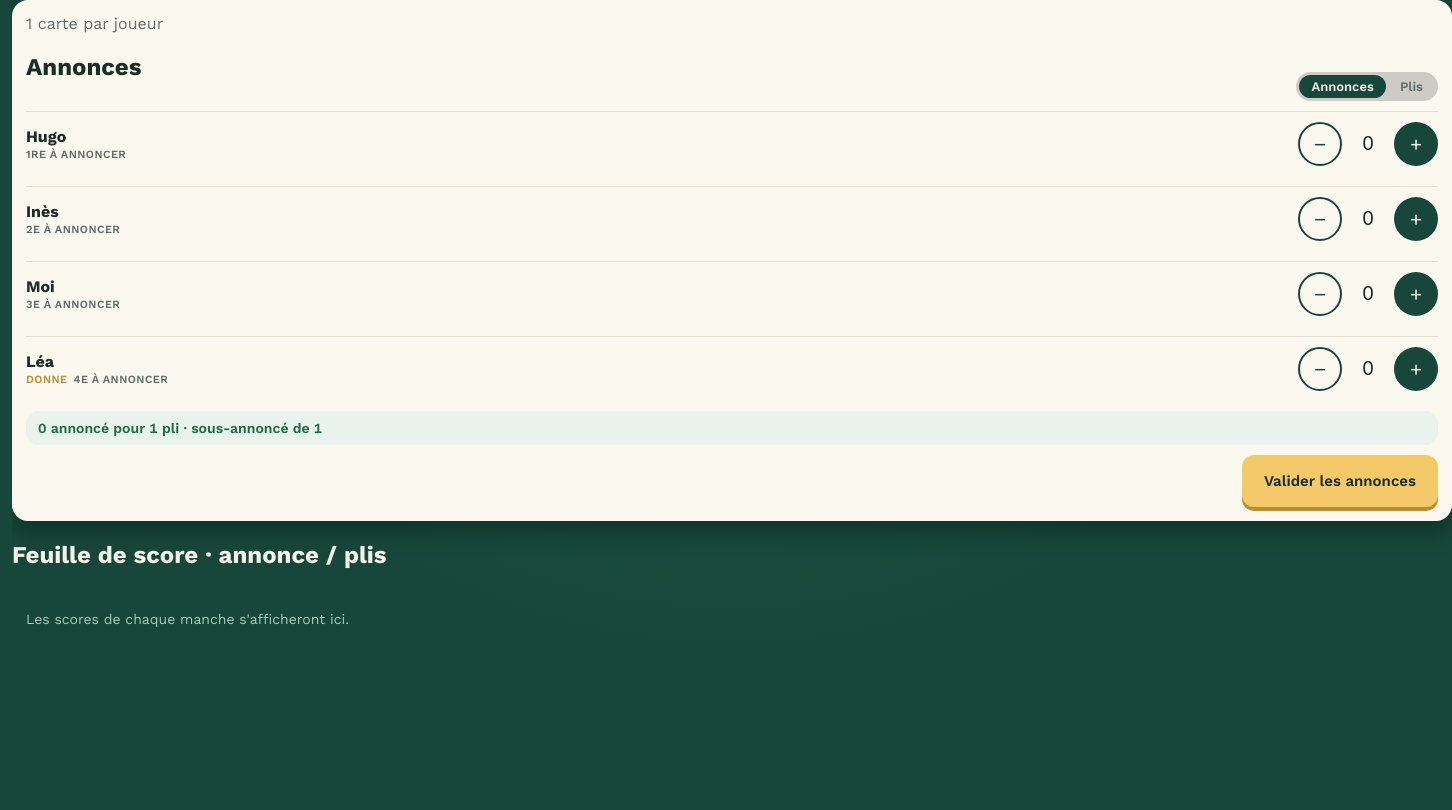
Test: FeuilleWizard › refuse de valider les annonces avec la variante si le total égale le nombre de plis
Note: manche 1 : 1 pli à prendre, une seule annonce à 1 égale ce total
Click the button named "Plus" at x=1416, y=144, box x1=1394 y1=122 x2=1438 y2=166
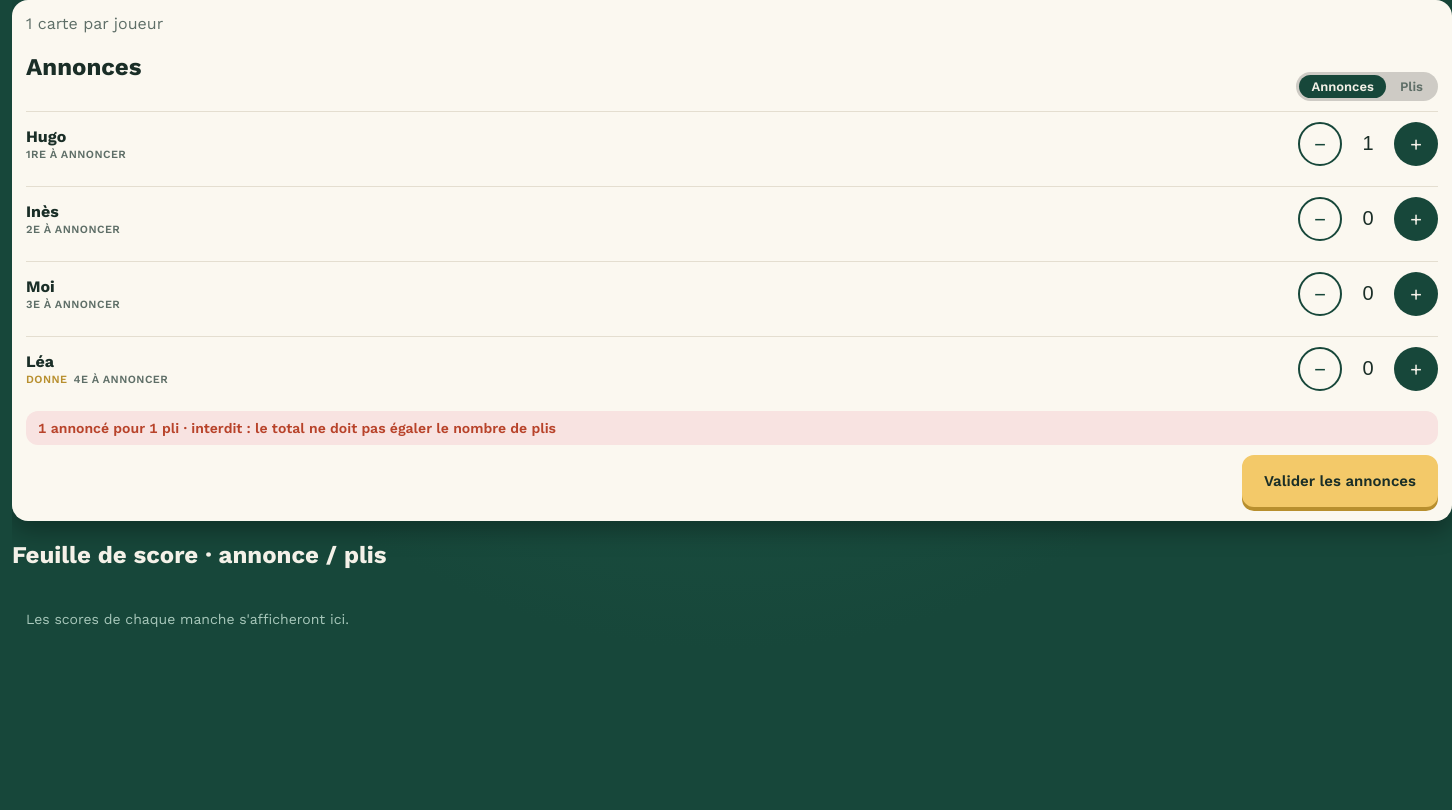
Expected: the button "Valider les annonces" is disabled, x1=1242 y1=455 x2=1438 y2=507
Now the text with class "status" shows "interdit", box x1=38 y1=420 x2=556 y2=436
